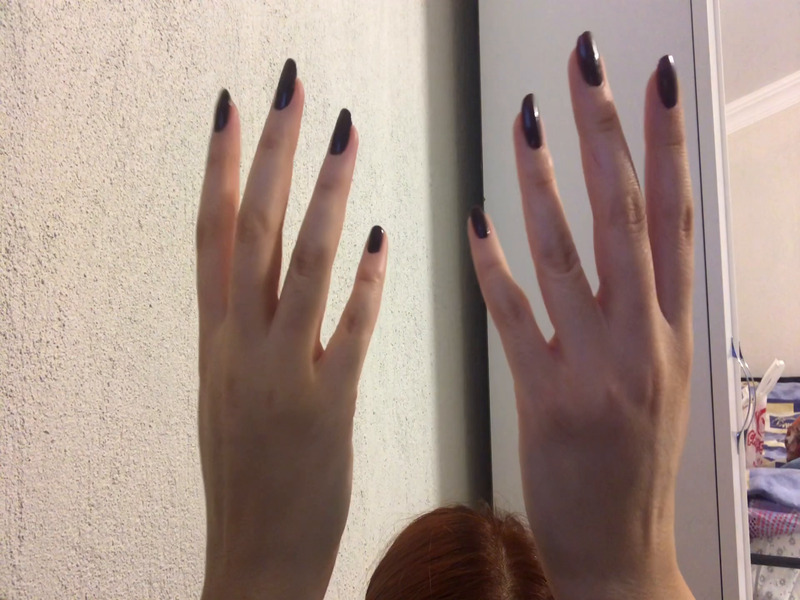hand: (456, 23, 709, 548), (177, 55, 384, 585)
